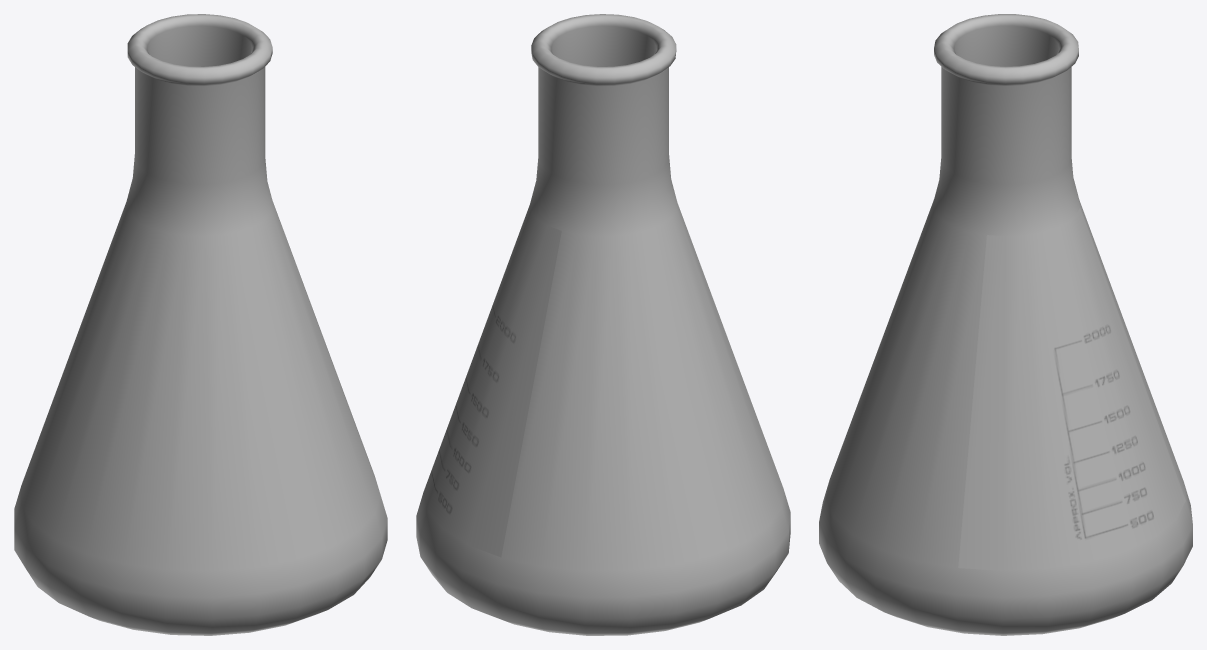
File: Conical flask.fbx
3 renders of one model, left to right at view 1: azimuth 30°, elevation 25°; view 2: azimuth 150°, elevation 25°; view 3: azimuth 270°, elevation 25°, orthographic.
Parts seen in each view (by area): view 1: Conical_flask_big; view 2: Conical_flask_big; view 3: Conical_flask_big.
Part boxes in pixels (x1,y1,x2,y2): Conical_flask_big: (14, 14, 387, 635); Conical_flask_big: (416, 14, 790, 635); Conical_flask_big: (819, 14, 1192, 635).
Size of the model in its own units: 20.7 by 32.26 by 20.72.
1 material, 1 textured.
